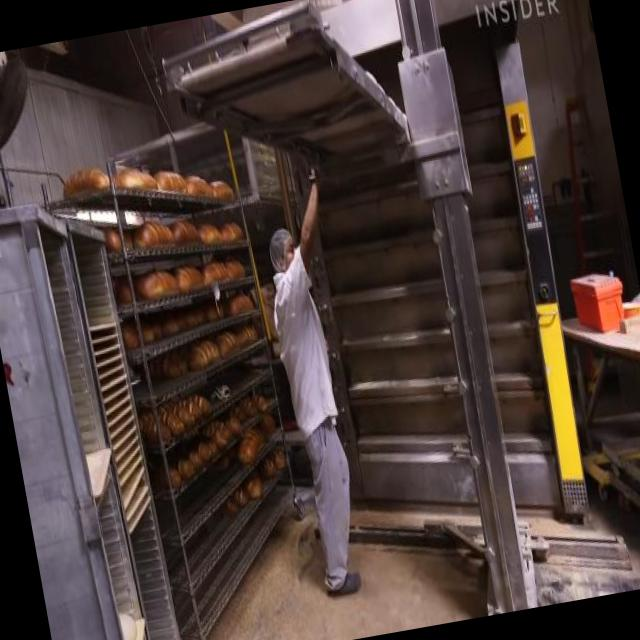hairnet: (266, 228, 295, 259)
